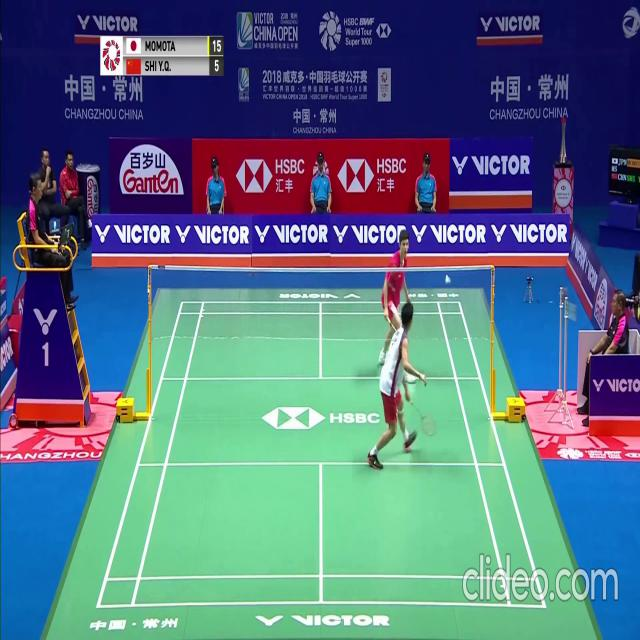Shuttlecock: (446, 277, 450, 285)
